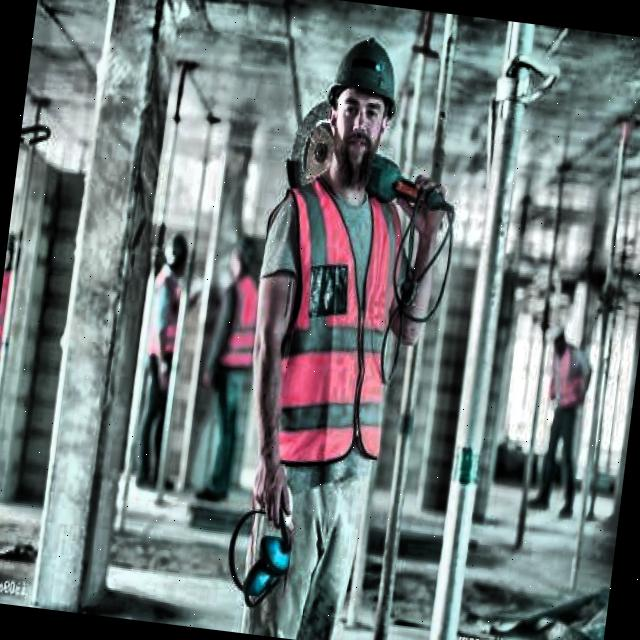helmet: (316, 25, 408, 188), (156, 228, 194, 280), (228, 227, 258, 278)
